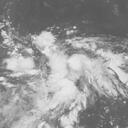cyclone: (18, 29, 127, 102)
